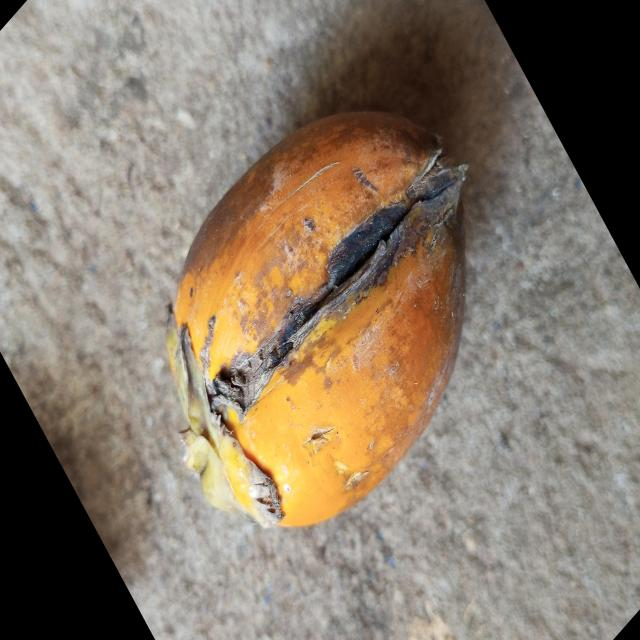damaged: (167, 113, 467, 526)
